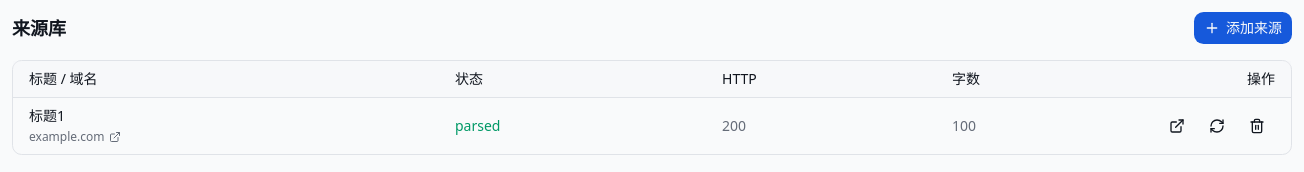
Test: SourcesClient › 删除来源：confirm 后 DELETE → 刷新列表
Check: the text "标题1" is shown, box [29, 106, 65, 125]
Click the button with test id "delete-1" at point(1257, 126), box [1239, 108, 1275, 144]
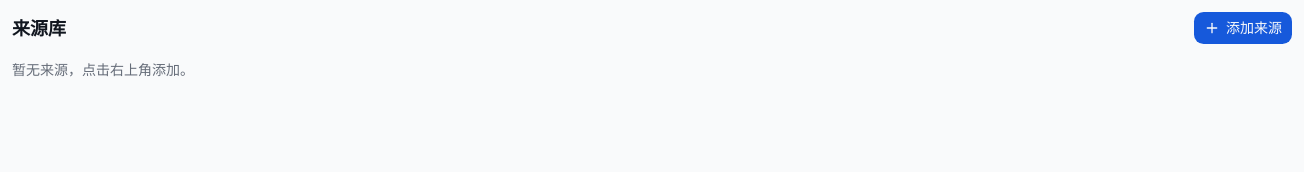
Check: the text "暂无来源" is shown, box [12, 60, 194, 79]
